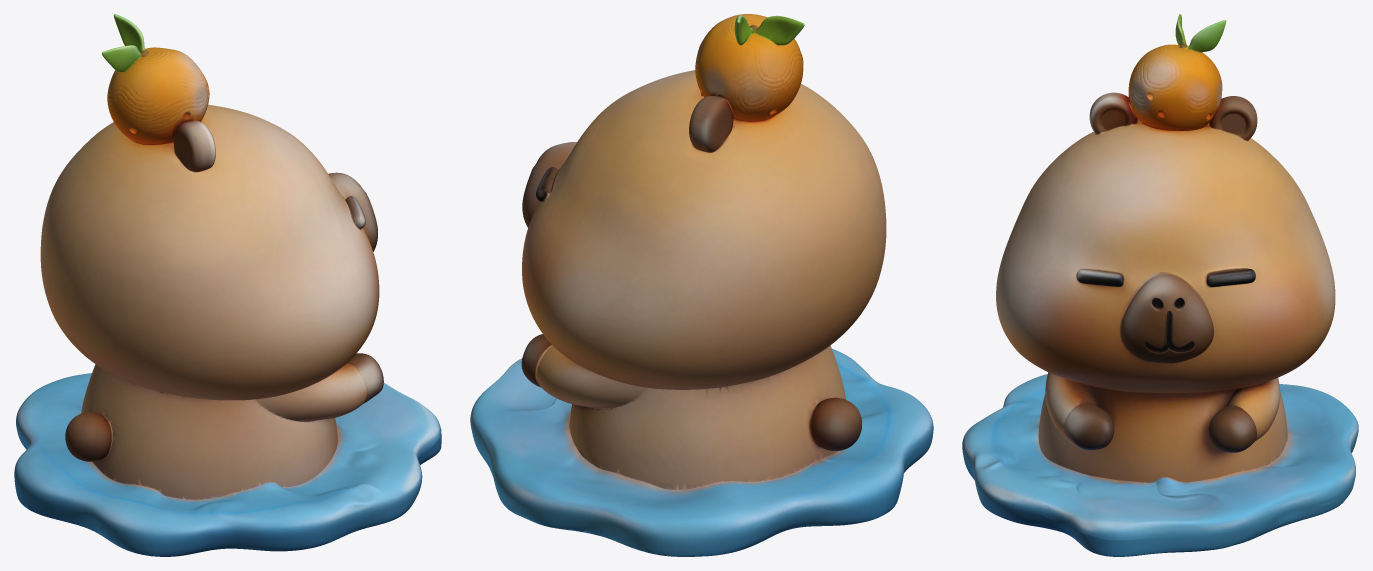
The model's file is capybara.glb.
3 renders of one model, left to right at view 1: azimuth 30°, elevation 25°; view 2: azimuth 150°, elevation 25°; view 3: azimuth 270°, elevation 25°, orthographic. The views are drawn at different scales.
Visible parts, largest first — view 1: tripo_node_b7df324b-4952-449d-a843-e57cc0737dd0; view 2: tripo_node_b7df324b-4952-449d-a843-e57cc0737dd0; view 3: tripo_node_b7df324b-4952-449d-a843-e57cc0737dd0.
Part boxes in pixels (<box>): tripo_node_b7df324b-4952-449d-a843-e57cc0737dd0: <box>14,14,441,556</box>; tripo_node_b7df324b-4952-449d-a843-e57cc0737dd0: <box>470,14,933,556</box>; tripo_node_b7df324b-4952-449d-a843-e57cc0737dd0: <box>962,14,1358,556</box>.
Bounding box in the file's own units: 0.8695 × 0.9786 × 0.8432.
Materials: 1 (1 with a texture image).
